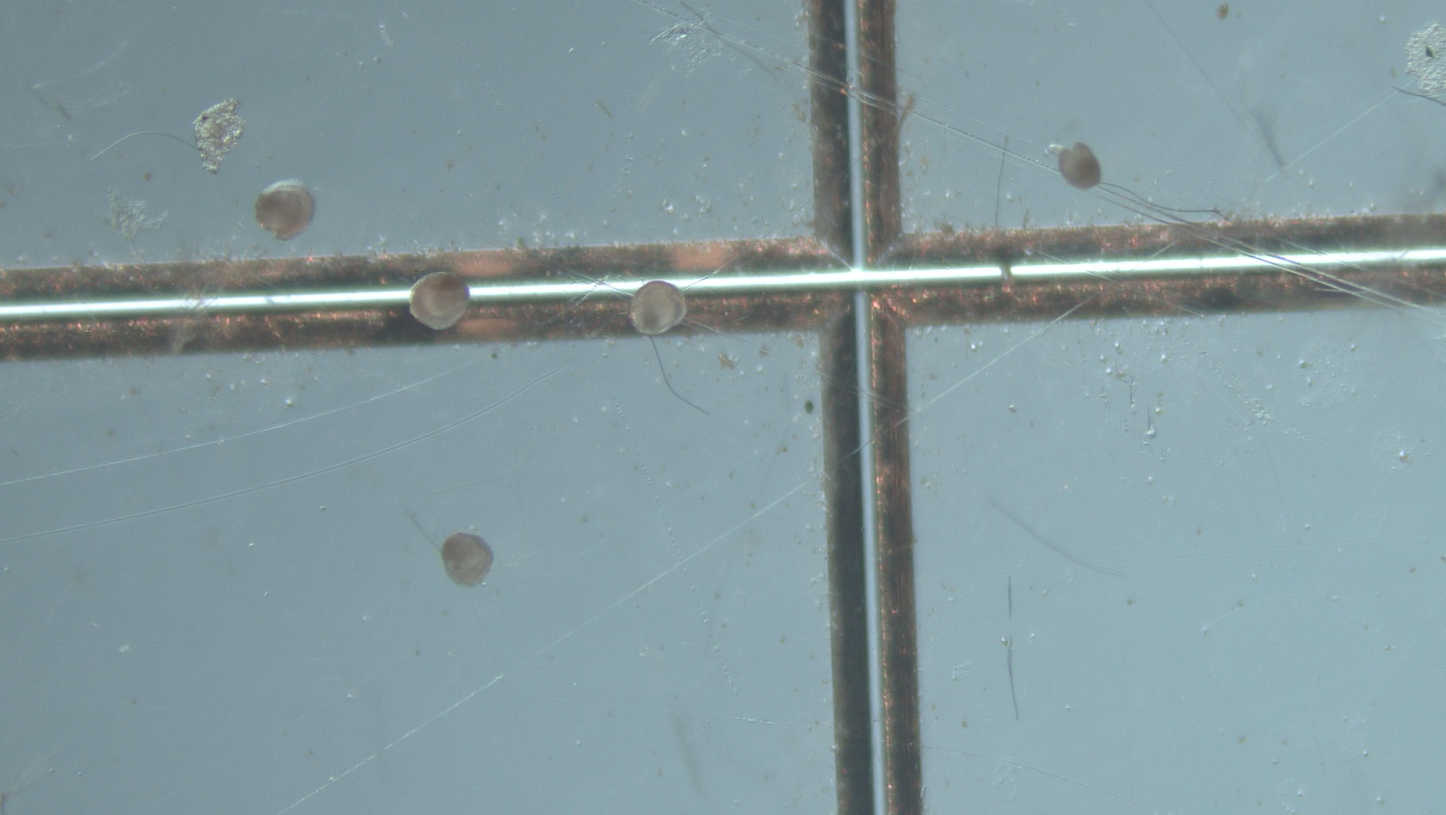live: (255, 179, 315, 240), (409, 272, 470, 331), (630, 281, 687, 335), (441, 533, 493, 586), (1047, 143, 1101, 190)
